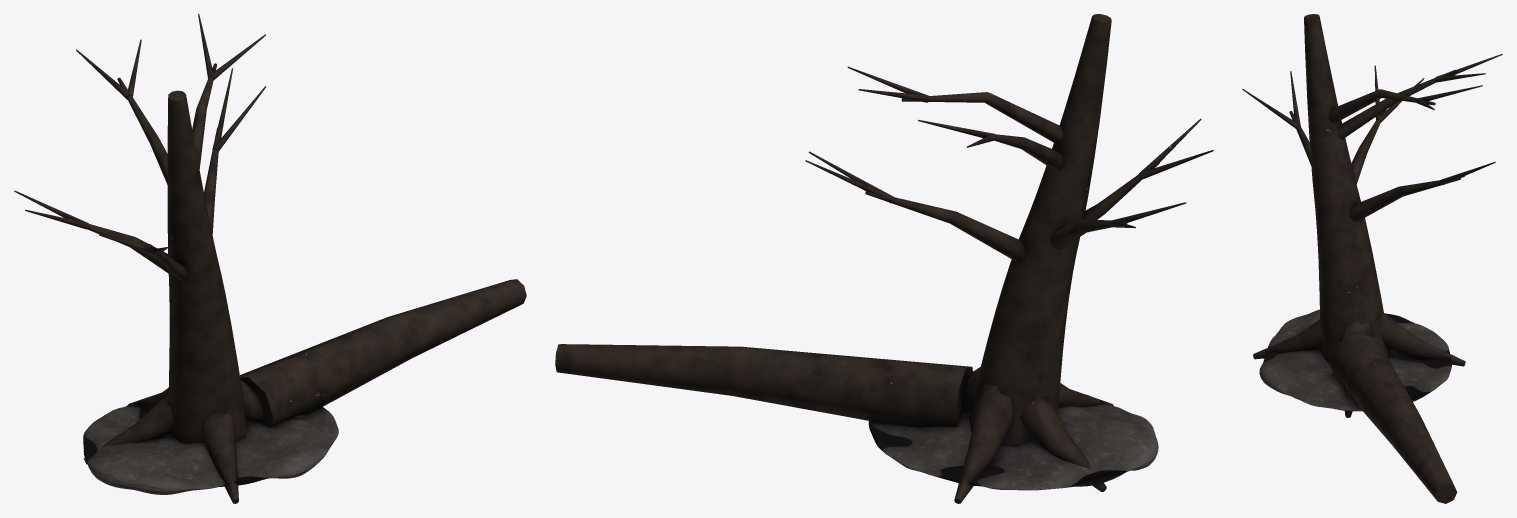
The model's file is vale_arvore_queimada_b.glb.
3 views of the same model, side by side, from view 1: azimuth 30°, elevation 25°; view 2: azimuth 150°, elevation 25°; view 3: azimuth 270°, elevation 25° (orthographic). The views are drawn at different scales.
Visible parts, largest first — view 1: vale_arvore_queimada_b_tronco; view 2: vale_arvore_queimada_b_tronco; view 3: vale_arvore_queimada_b_tronco.
Boxes of the visible parts, x1,y1,x2,y2 form: vale_arvore_queimada_b_tronco: (14, 14, 526, 503); vale_arvore_queimada_b_tronco: (555, 14, 1213, 503); vale_arvore_queimada_b_tronco: (1242, 14, 1502, 503).
Bounding box in the file's own units: 5.36 × 3.86 × 2.65.
Materials: 1 (1 with a texture image).
